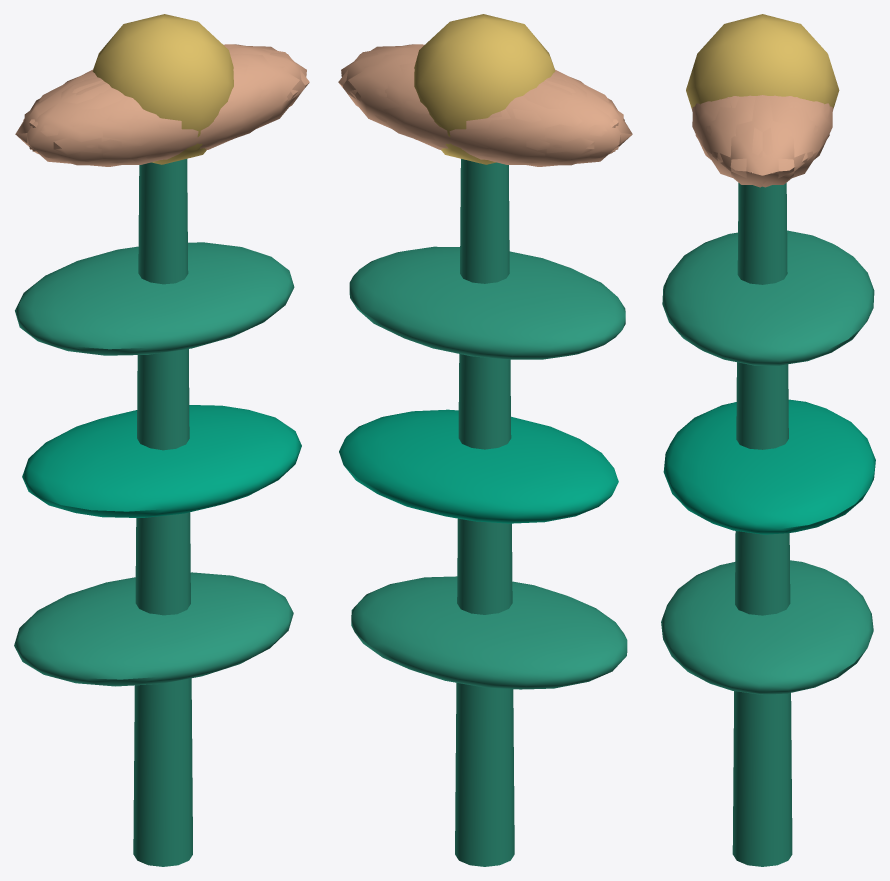
File: litsea-glutinosa.glb
3 views of the same model, side by side, from view 1: azimuth 30°, elevation 25°; view 2: azimuth 150°, elevation 25°; view 3: azimuth 270°, elevation 25° (orthographic).
Parts seen in each view (by area): view 1: stem, leaf2, leaf0, leaf1, center, petal6, petal2, petal1, petal5, petal7, petal0; view 2: stem, leaf2, leaf1, leaf0, center, petal3, petal7, petal8, petal4, petal2, petal0; view 3: stem, leaf1, leaf2, leaf0, center, petal0, petal5, petal4, petal8, petal1.
Part boxes in pixels (bbox=[...]): stem: bbox=[133, 159, 192, 866]; leaf2: bbox=[15, 242, 294, 355]; leaf0: bbox=[14, 572, 293, 686]; leaf1: bbox=[22, 405, 301, 517]; center: bbox=[92, 14, 233, 164]; petal6: bbox=[32, 82, 220, 165]; petal2: bbox=[24, 77, 169, 166]; petal1: bbox=[98, 62, 292, 163]; petal5: bbox=[159, 52, 309, 155]; petal7: bbox=[15, 72, 111, 158]; petal0: bbox=[227, 46, 306, 139]; stem: bbox=[455, 159, 514, 866]; leaf2: bbox=[349, 246, 625, 359]; leaf1: bbox=[339, 409, 618, 523]; leaf0: bbox=[351, 576, 627, 689]; center: bbox=[414, 14, 555, 164]; petal3: bbox=[427, 82, 615, 165]; petal7: bbox=[478, 77, 623, 166]; petal8: bbox=[355, 62, 549, 163]; petal4: bbox=[338, 52, 489, 155]; petal2: bbox=[537, 72, 632, 158]; petal0: bbox=[341, 46, 420, 139]; stem: bbox=[732, 183, 792, 866]; leaf1: bbox=[663, 399, 875, 534]; leaf2: bbox=[662, 230, 874, 365]; leaf0: bbox=[661, 560, 873, 694]; center: bbox=[686, 14, 839, 108]; petal0: bbox=[706, 95, 819, 184]; petal5: bbox=[695, 95, 774, 187]; petal4: bbox=[751, 95, 829, 187]; petal8: bbox=[785, 96, 832, 160]; petal1: bbox=[692, 96, 740, 160].
Bounding box in the file's own units: 0.1541 × 0.4313 × 0.1008.
